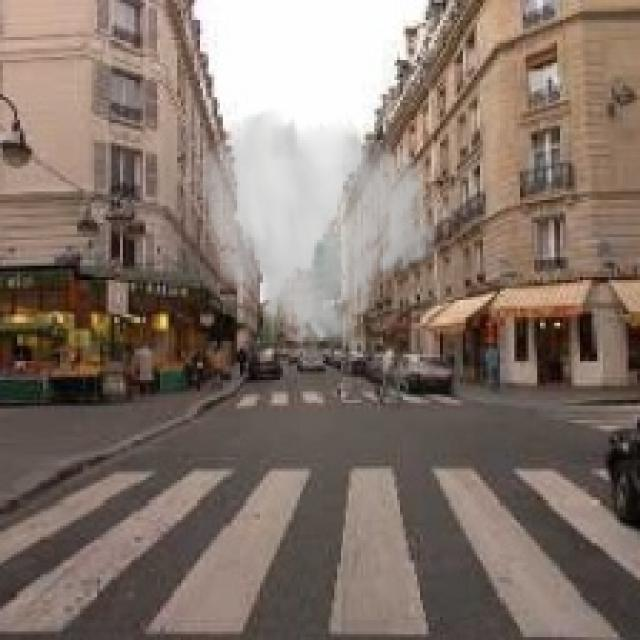smoke: (197, 106, 440, 360)
